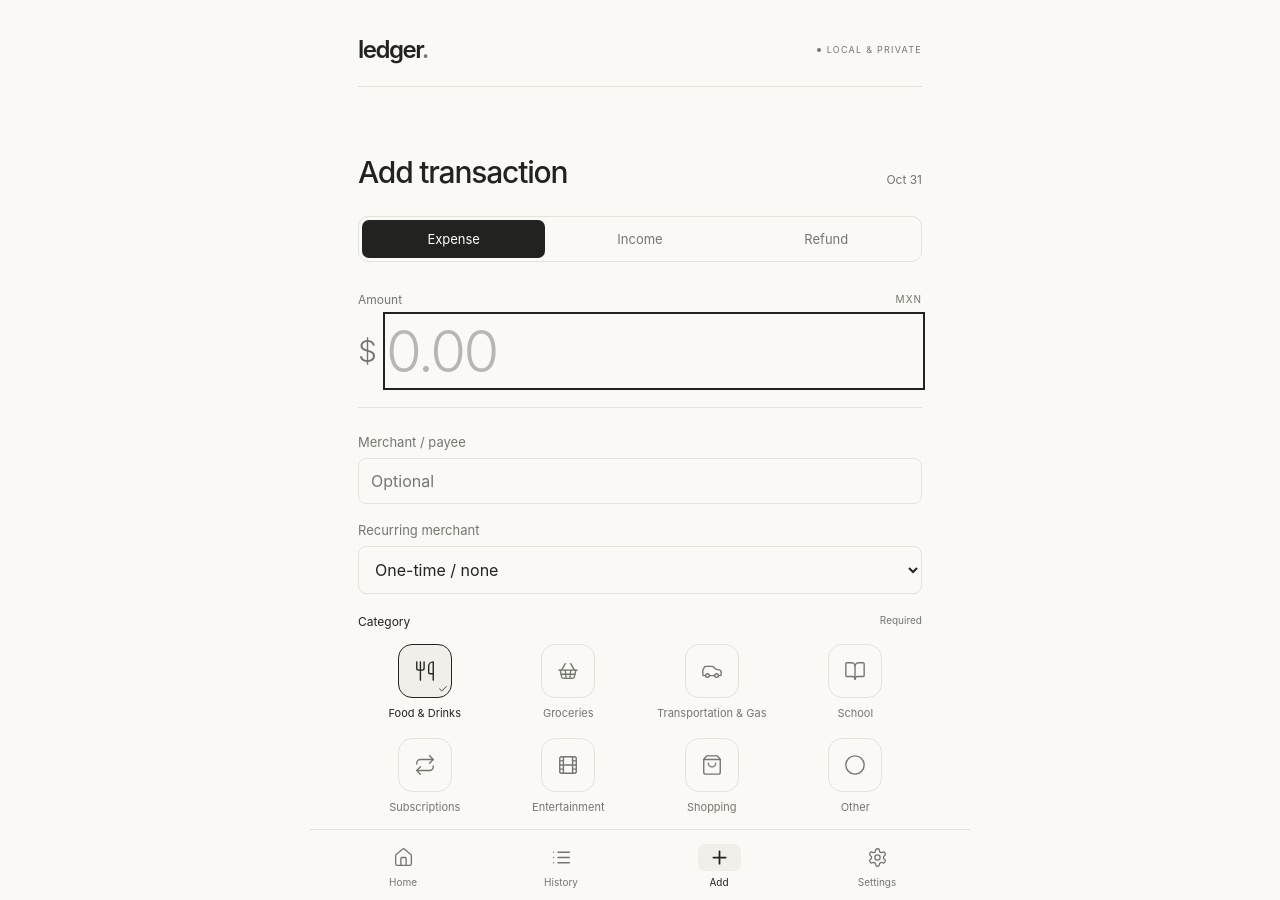
Test: everyday entry and navigation › persists appearance and makes settings management usable
expect the heading "Add transaction" is shown: met, box x1=358 y1=155 x2=567 y2=190
Click the button "Settings" at coordinates (877, 866), box x1=798 y1=840 x2=956 y2=892
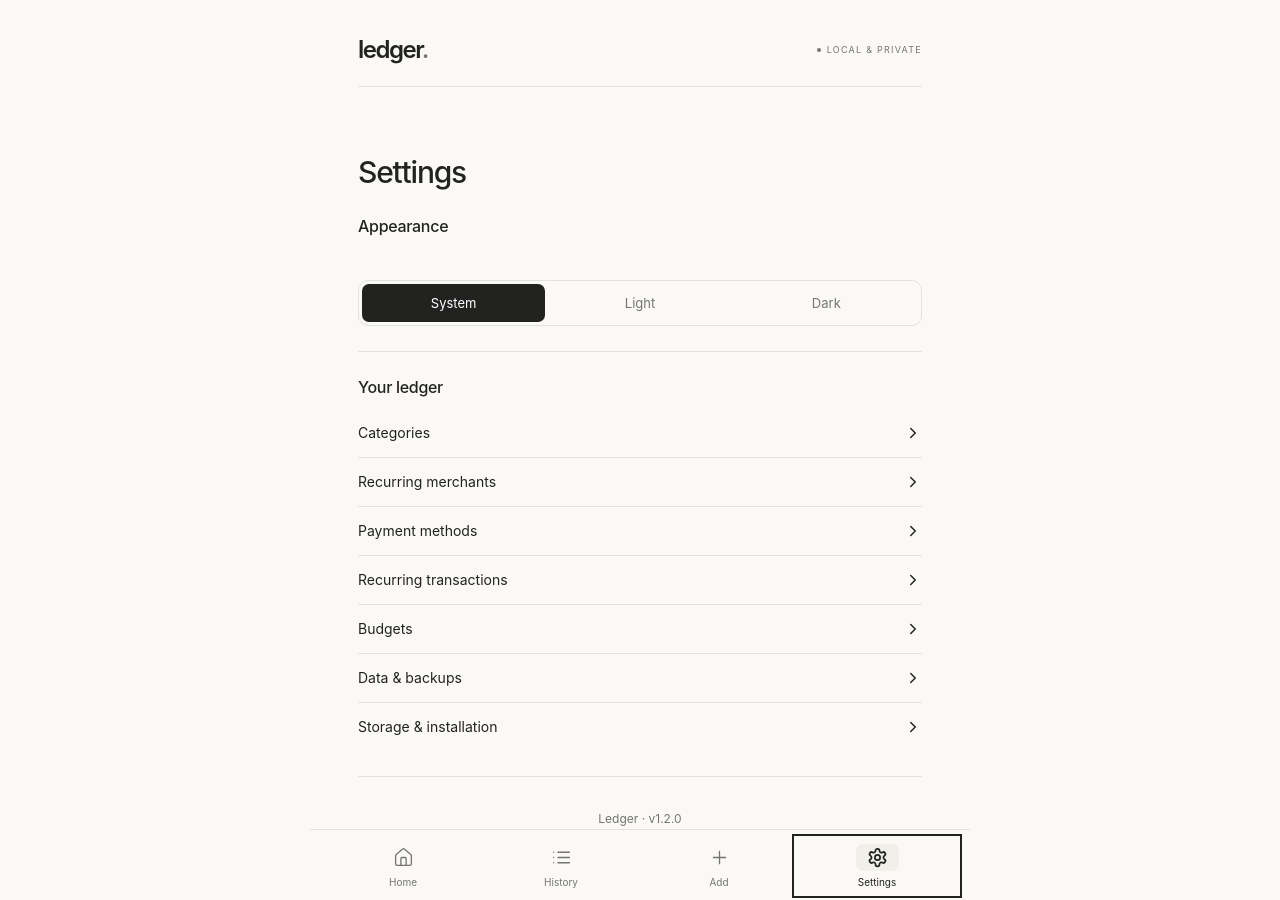
Click the button "Dark" at coordinates (826, 303), box x1=735 y1=284 x2=918 y2=322
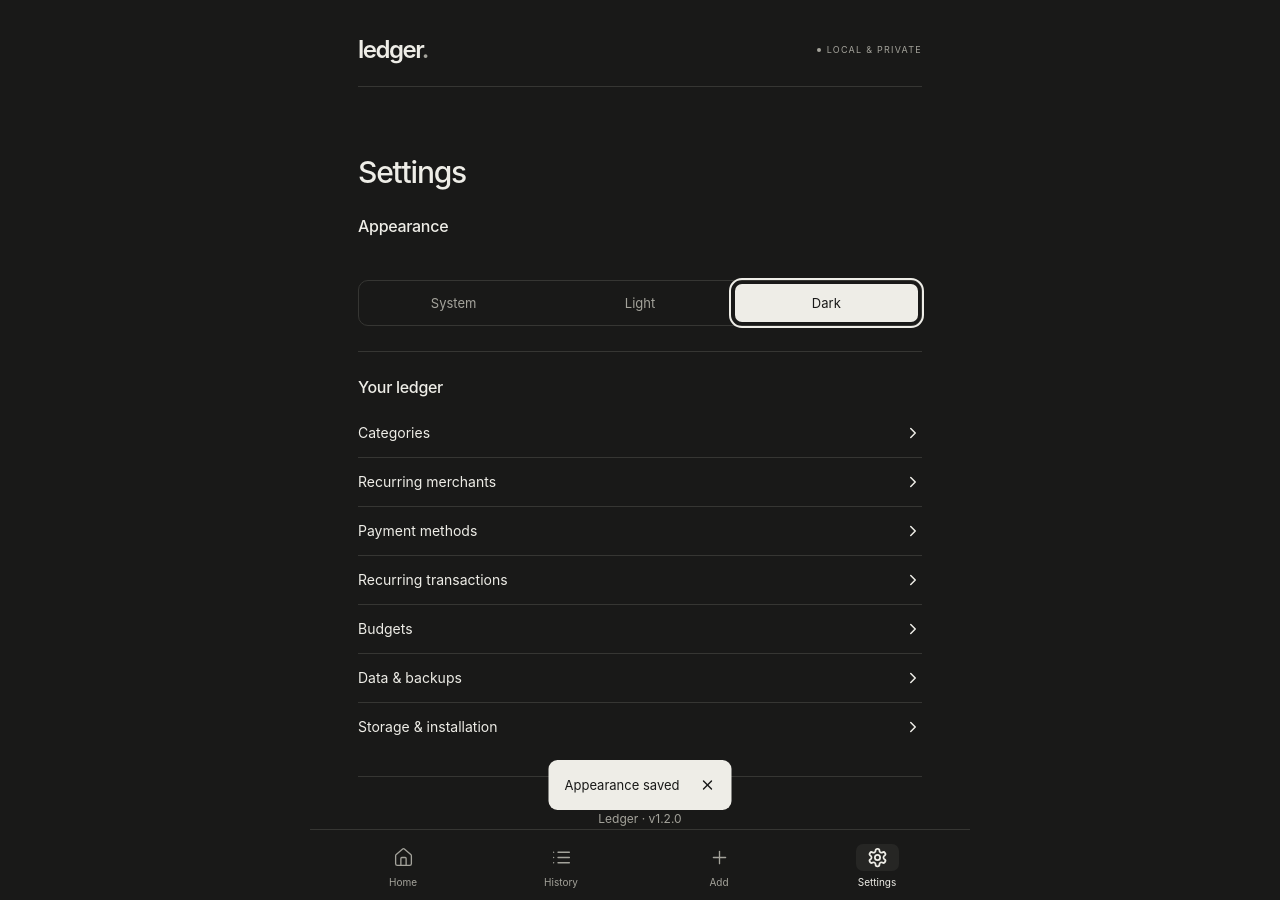
Click the button "Categories" at coordinates (394, 433), box x1=358 y1=409 x2=922 y2=457
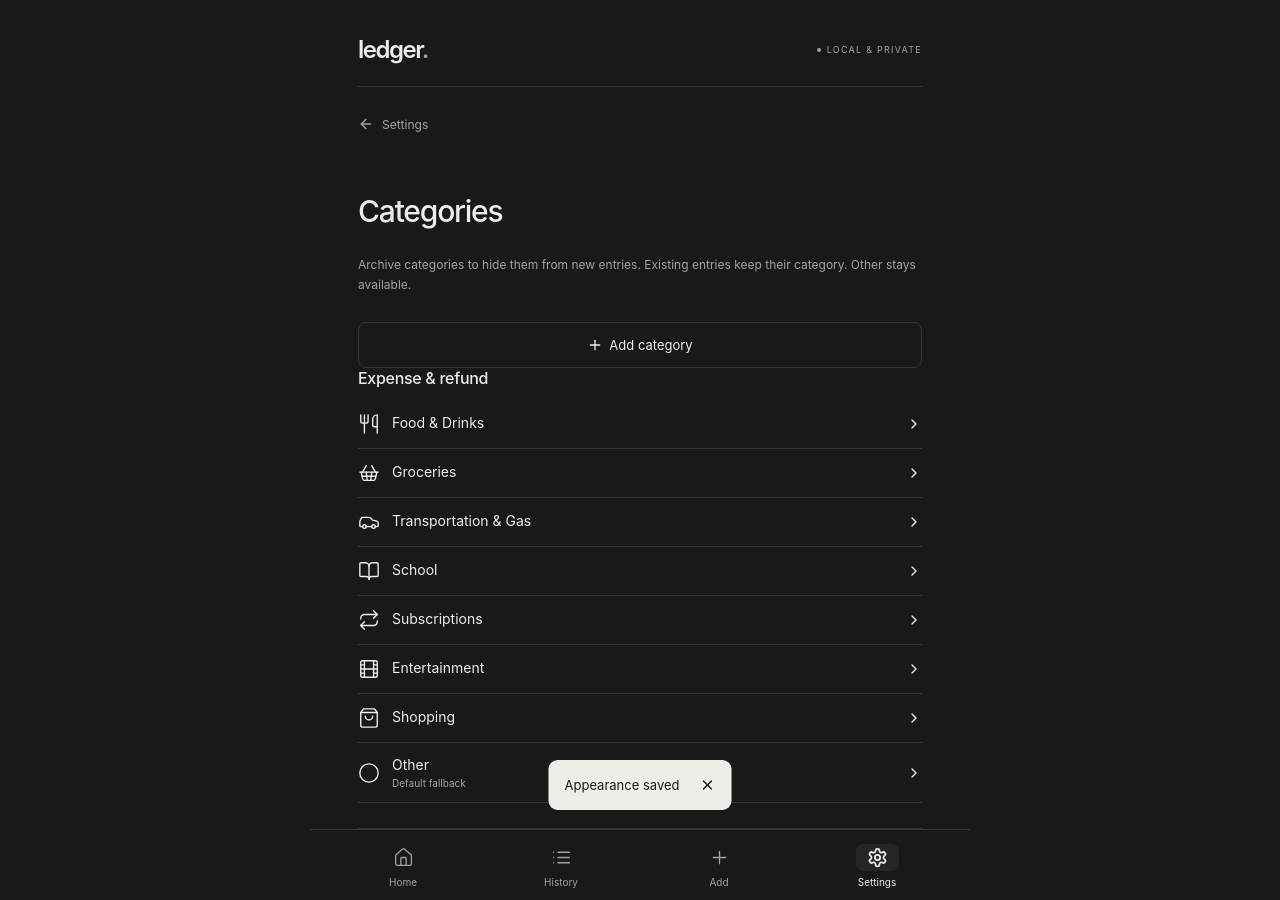
Click the button "Add category" at coordinates (640, 345), box x1=358 y1=322 x2=922 y2=368
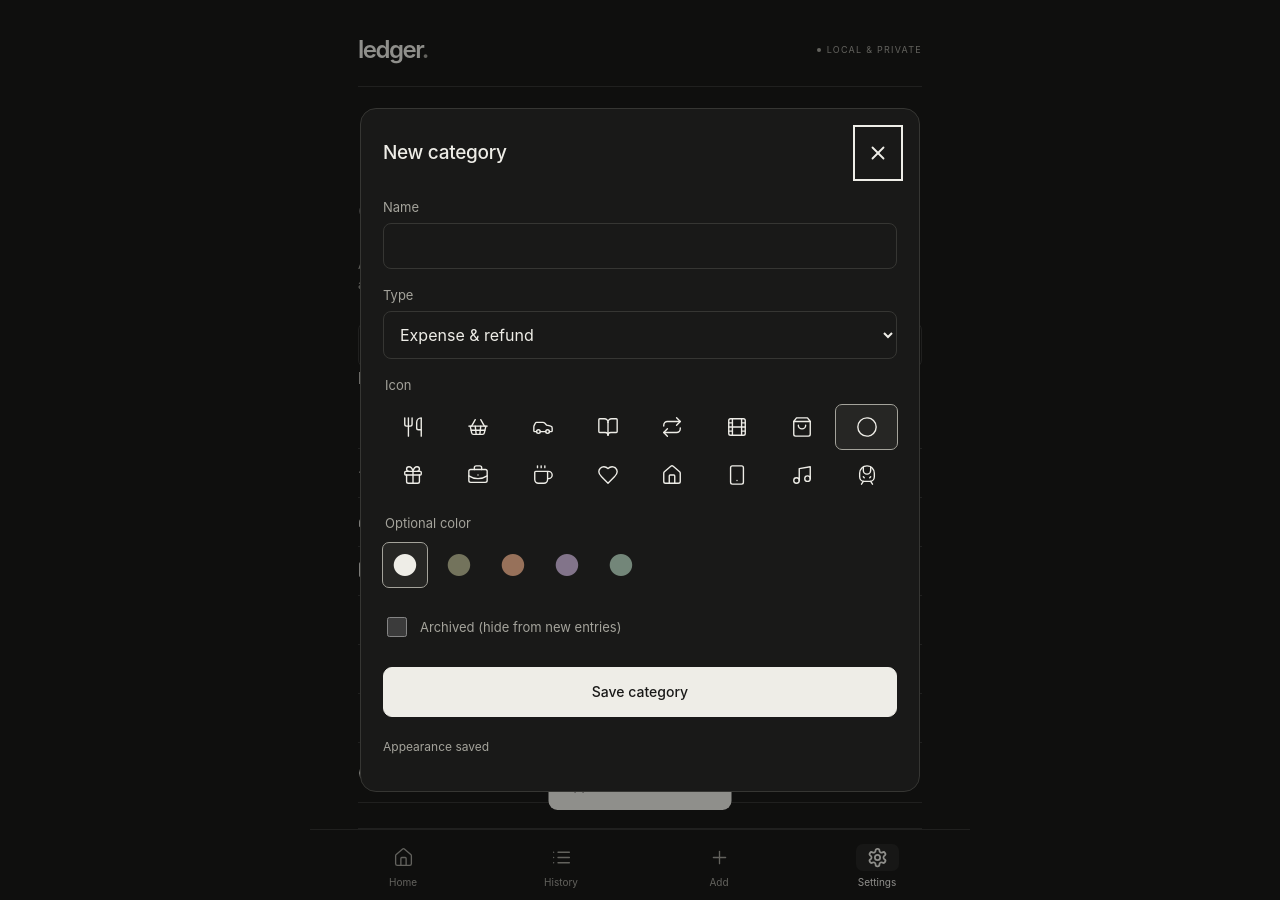
Type "Lab supplies" into the field labelled "Name" at coordinates (640, 246), box x1=383 y1=223 x2=897 y2=269
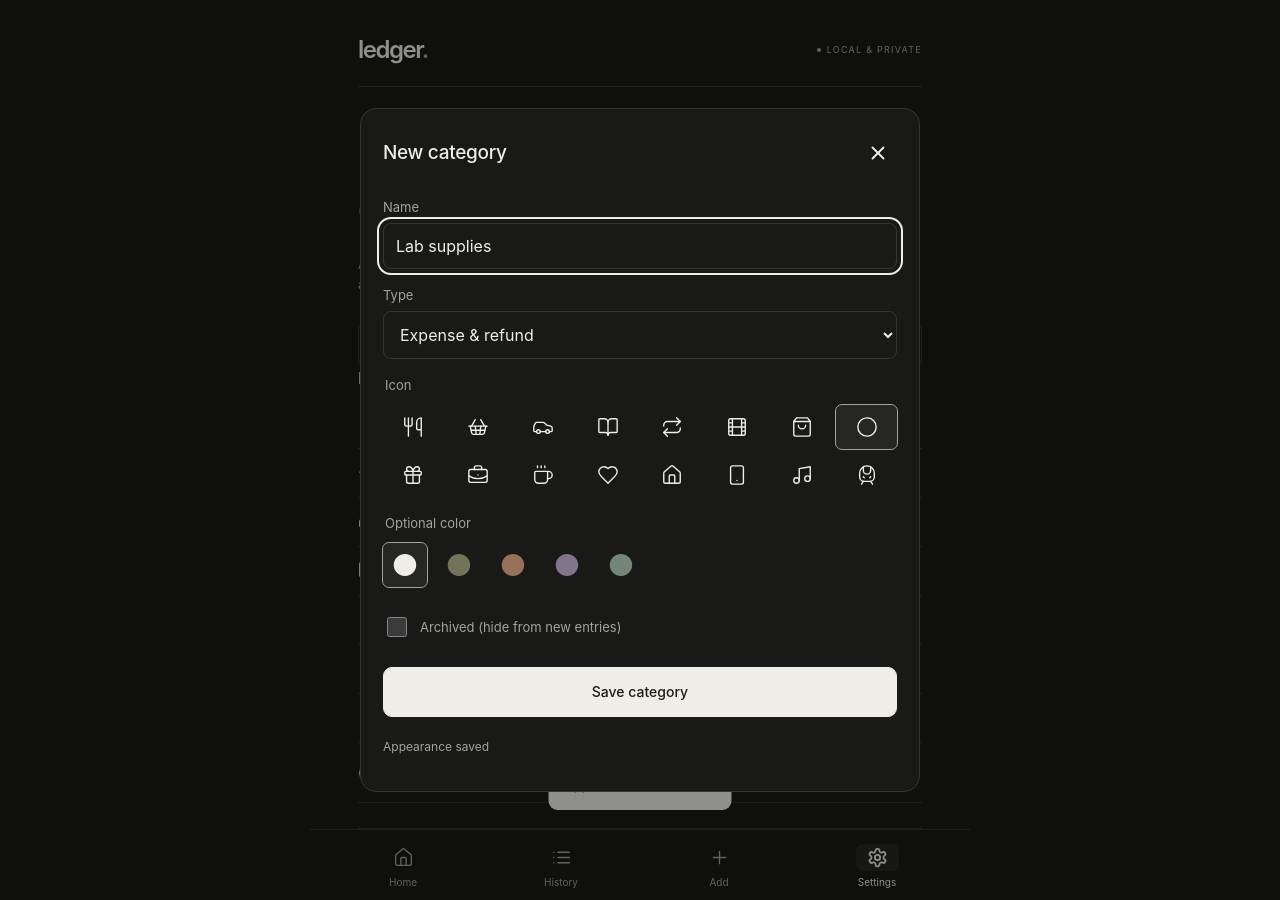
Click the button "Save category" at coordinates (640, 692), box x1=383 y1=667 x2=897 y2=717
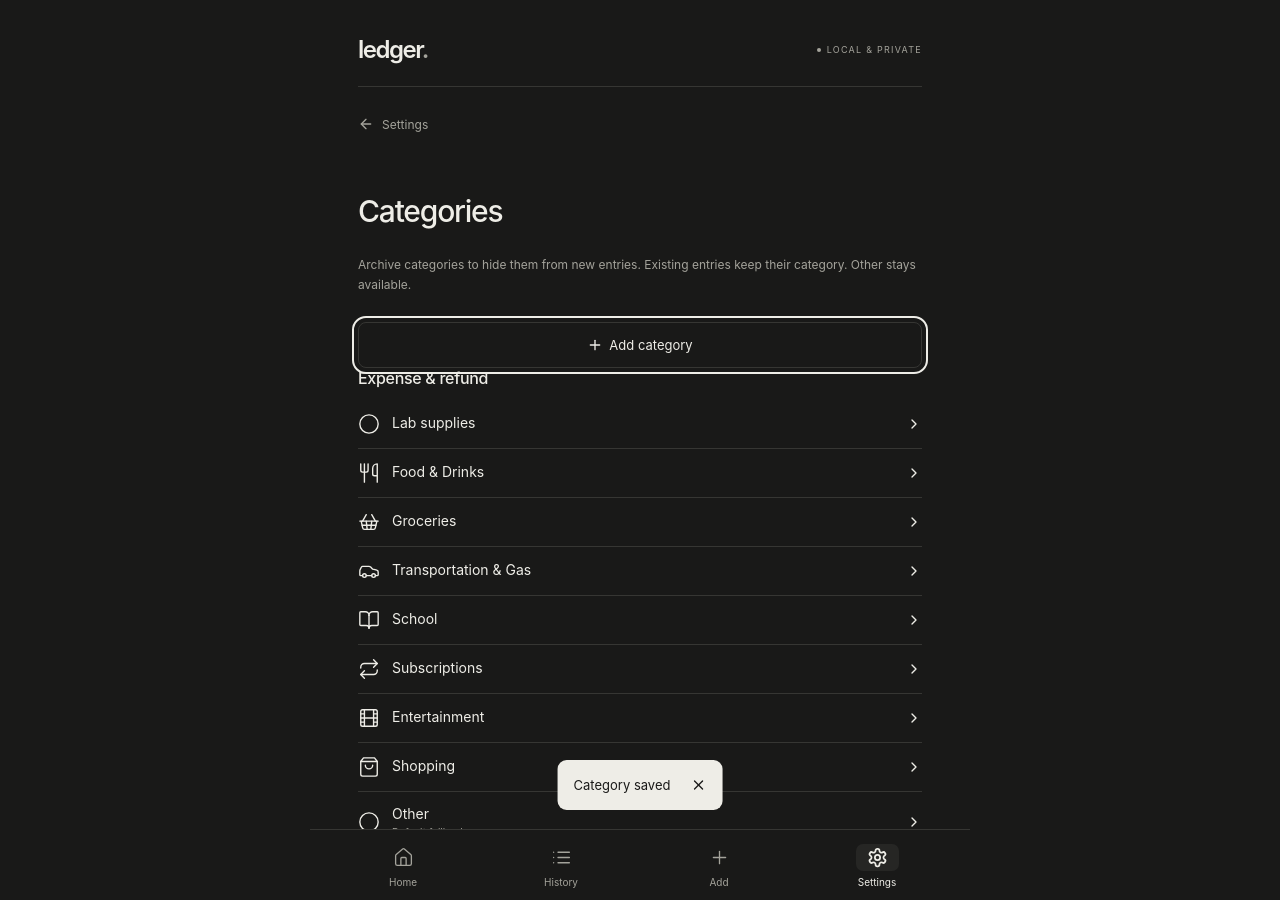
expect the dialog is gone: met
